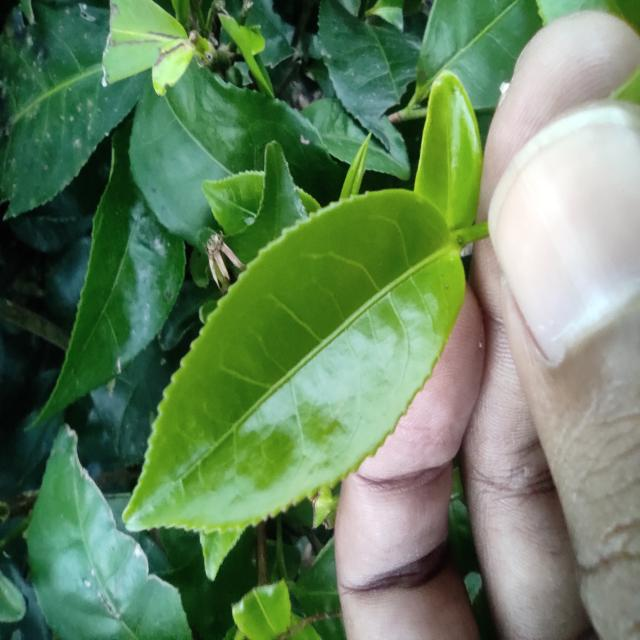Category C 4-7 days: (95, 167, 495, 564)
